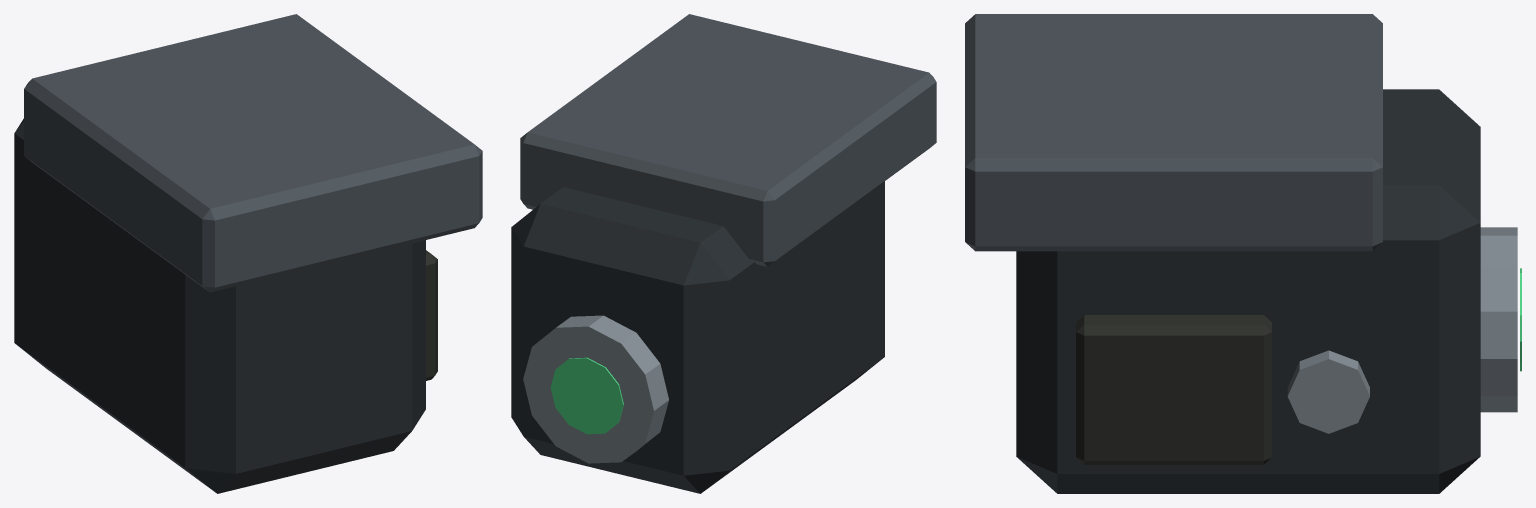
Rendered from att_laser_pistol_green.glb.
3 renders of one model, left to right at view 1: azimuth 30°, elevation 25°; view 2: azimuth 150°, elevation 25°; view 3: azimuth 270°, elevation 25°, orthographic. The views are drawn at different scales.
Visible parts, largest first — view 1: Geometry_att_laser_pistol_green; view 2: Geometry_att_laser_pistol_green; view 3: Geometry_att_laser_pistol_green.
Part boxes in pixels (box(x1,y1,x2,y2)): Geometry_att_laser_pistol_green: box(14, 14, 482, 493); Geometry_att_laser_pistol_green: box(511, 14, 936, 493); Geometry_att_laser_pistol_green: box(965, 14, 1521, 493).
Size of the model in its own units: 0.0355 by 0.0385 by 0.054.
